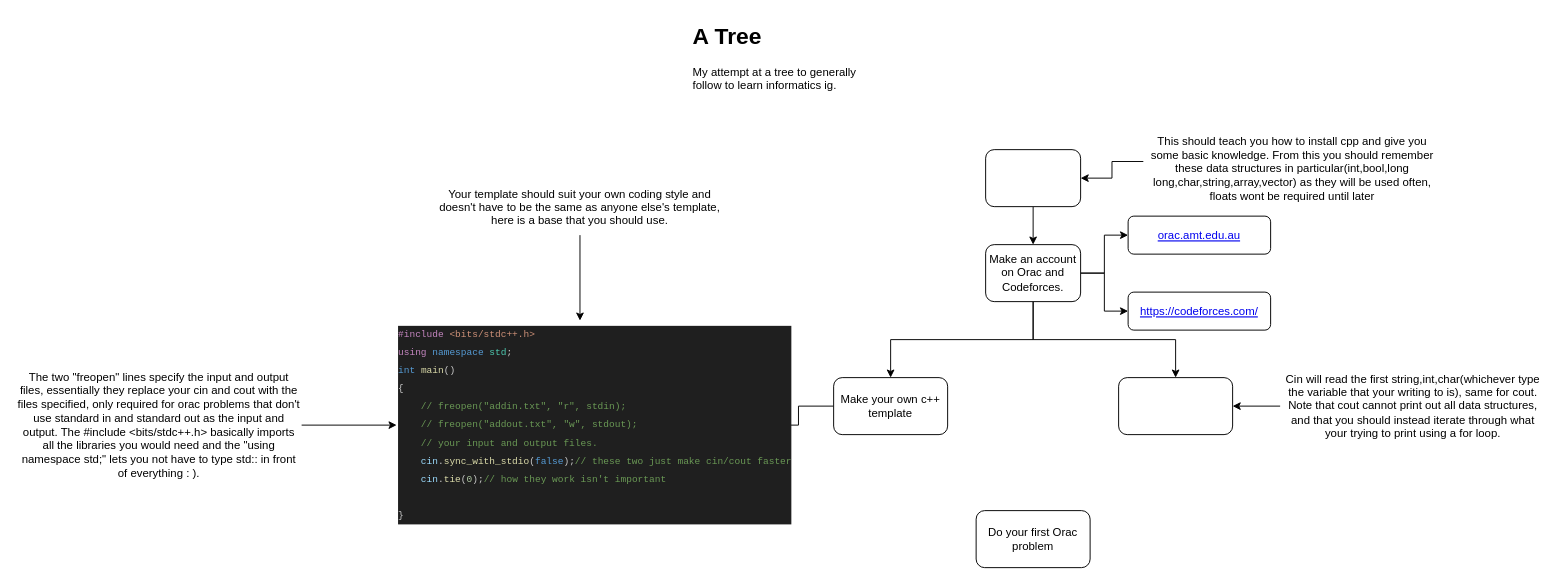
Image size: 1562x584. Some labels were removed from this diagram. The centre of each missing label's shape, as x and y in pixels:
Learn how to cin/cout: (x=1175, y=406)
Learncpp.com lessons 0-8, then 16,17.: (x=1033, y=178)
